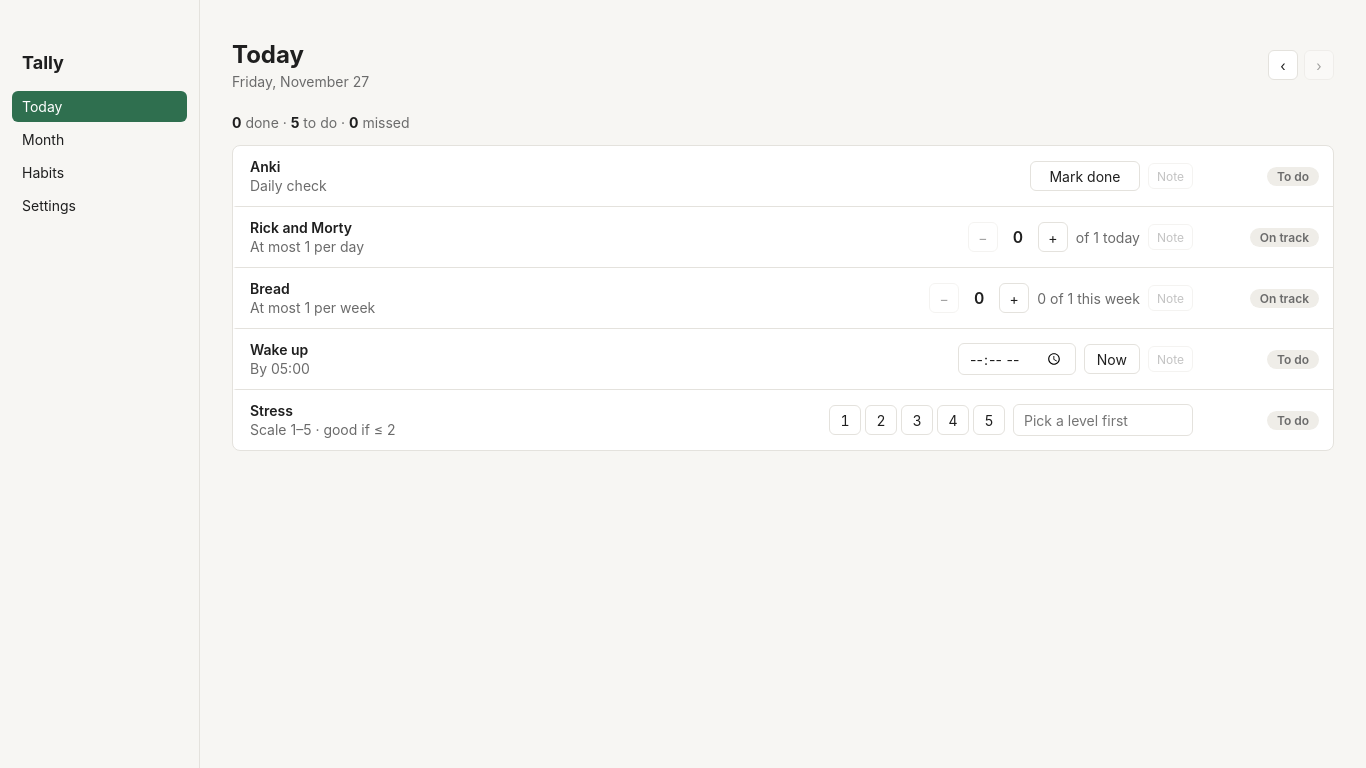
Test: TodayPage › fails a daily limit as soon as it is exceeded
Click the button named "Increase Rick and Morty": (1053, 237) top-left (1038, 222), bottom-right (1068, 252)
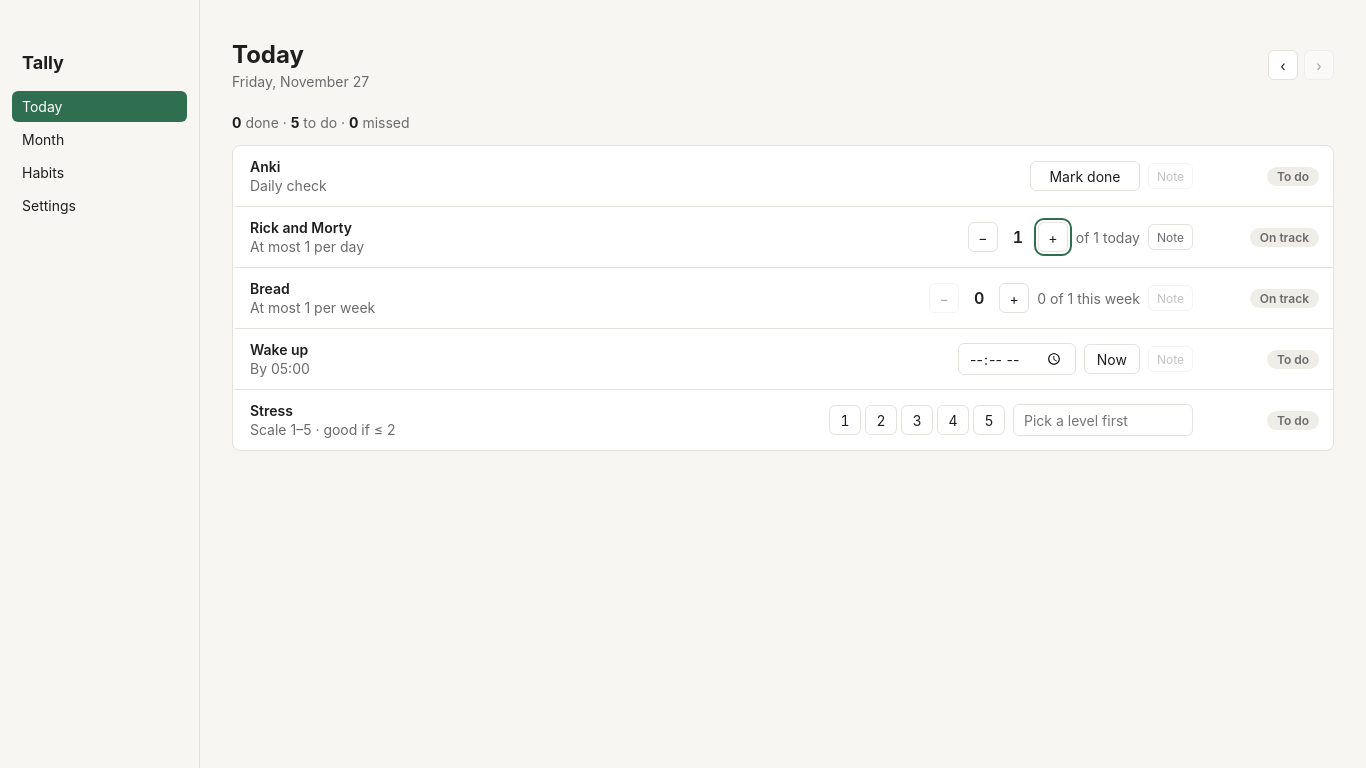
Expected: the text "On track" in the row of "Rick and Morty" is shown, top-left (1260, 230), bottom-right (1309, 244)
Click the button named "Increase Rick and Morty": (1053, 237) top-left (1038, 222), bottom-right (1068, 252)
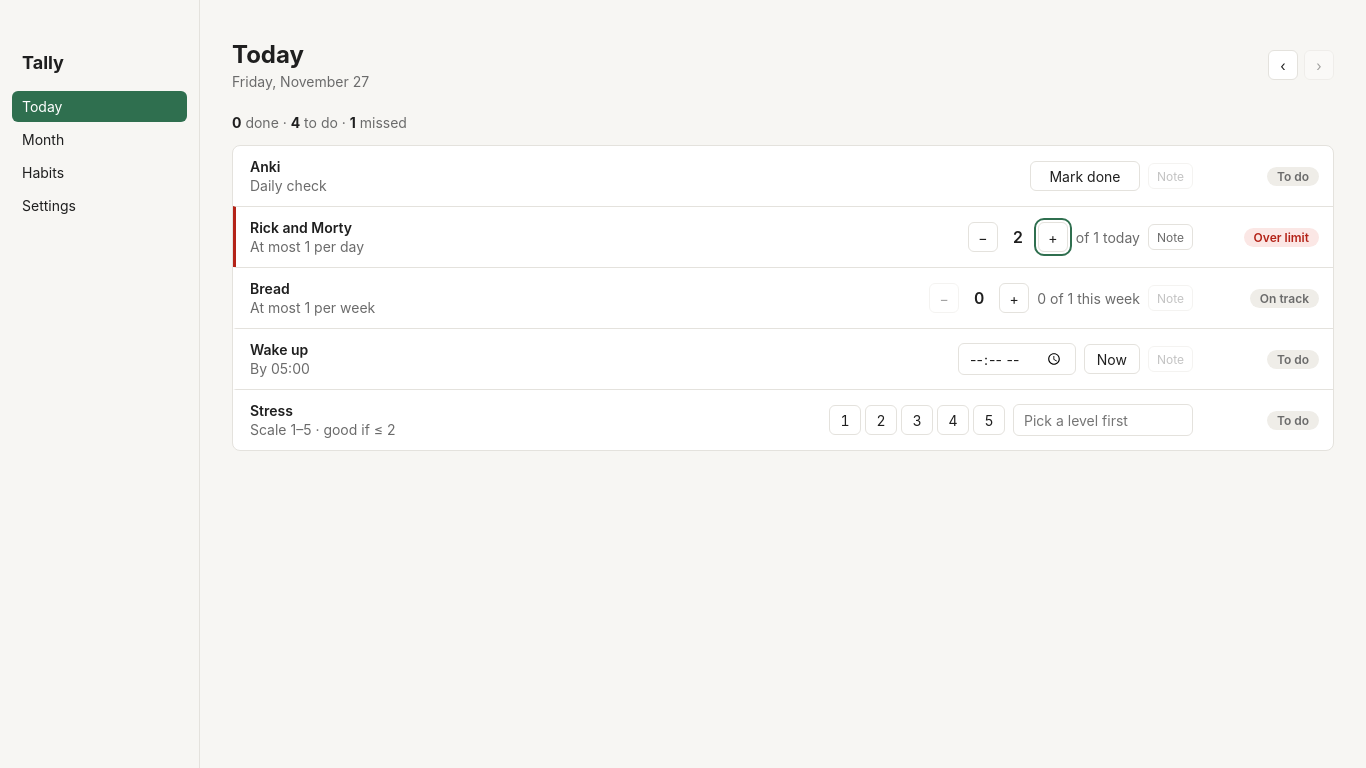
Expected: the text "Over limit" is shown, top-left (1244, 228), bottom-right (1319, 246)
